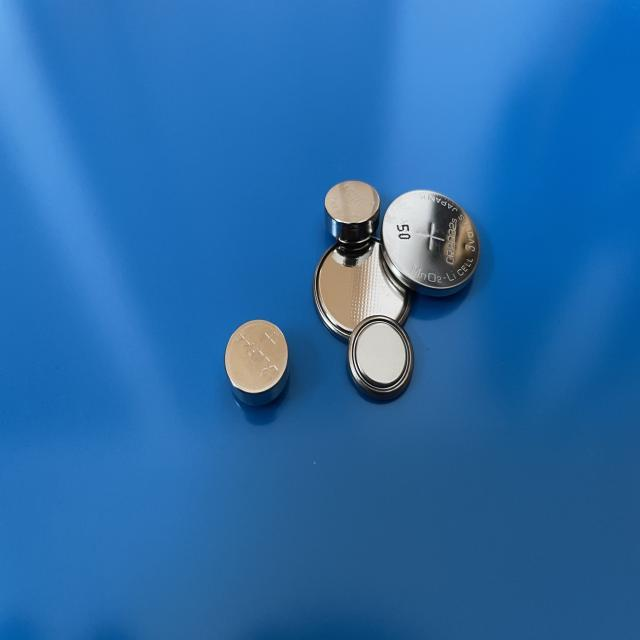COIN: (312, 232, 417, 346), (379, 190, 482, 301), (222, 316, 291, 408), (348, 314, 416, 406), (322, 176, 382, 248)
